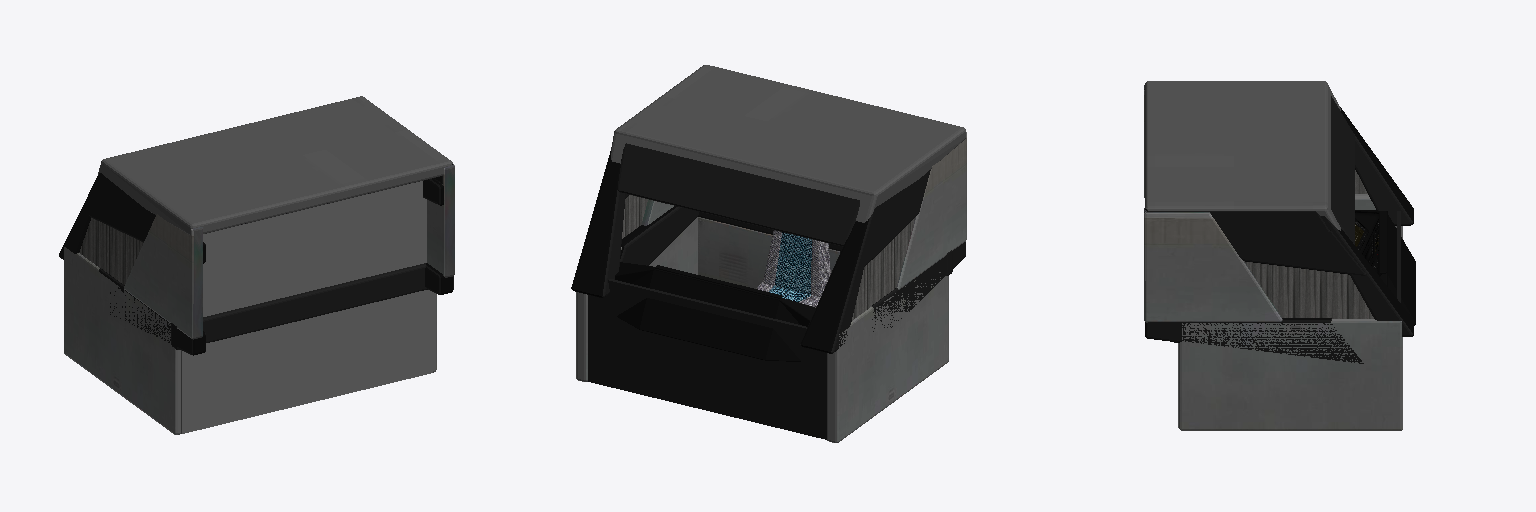
3 renders of one model, left to right at view 1: azimuth 30°, elevation 25°; view 2: azimuth 150°, elevation 25°; view 3: azimuth 270°, elevation 25°, orthographic.
Visible parts, largest first — view 1: Box003, ChamferBox008, ChamferBox003, ChamferBox006, ChamferBox014, Box005, ChamferBox016, ChamferBox013, ChamferBox005, ChamferBox009; view 2: ChamferBox008, Box001, ChamferBox003, ChamferBox007, ChamferBox002, ChamferBox005, ChamferBox006, Box003, ChamferBox013, ChamferBox012, Box005, ChamferBox016 (+2 smaller); view 3: ChamferBox008, ChamferBox003, ChamferBox006, ChamferBox005, Box006, ChamferBox016, ChamferBox013, ChamferBox002, ChamferBox009, ChamferBox007.
Boxes of the visible parts, x1=… form: Box003: x1=181, y1=181, x2=432, y2=433; ChamferBox008: x1=98, y1=96, x2=452, y2=234; ChamferBox003: x1=64, y1=247, x2=436, y2=434; ChamferBox006: x1=124, y1=164, x2=454, y2=339; ChamferBox014: x1=171, y1=263, x2=427, y2=349; Box005: x1=79, y1=218, x2=142, y2=284; ChamferBox016: x1=82, y1=178, x2=443, y2=263; ChamferBox013: x1=99, y1=263, x2=453, y2=355; ChamferBox005: x1=59, y1=173, x2=102, y2=259; ChamferBox009: x1=97, y1=164, x2=452, y2=222; ChamferBox008: x1=611, y1=65, x2=965, y2=222; Box001: x1=588, y1=279, x2=826, y2=439; ChamferBox003: x1=576, y1=217, x2=948, y2=442; ChamferBox007: x1=618, y1=143, x2=859, y2=246; ChamferBox002: x1=615, y1=262, x2=815, y2=361; ChamferBox005: x1=571, y1=151, x2=877, y2=353; ChamferBox006: x1=642, y1=132, x2=966, y2=289; Box003: x1=698, y1=217, x2=839, y2=288; ChamferBox013: x1=620, y1=206, x2=965, y2=331; ChamferBox012: x1=756, y1=230, x2=830, y2=307; Box005: x1=852, y1=217, x2=915, y2=320; ChamferBox016: x1=625, y1=180, x2=927, y2=266; ChamferBox008: x1=1145, y1=81, x2=1340, y2=230; ChamferBox003: x1=1179, y1=194, x2=1402, y2=430; ChamferBox006: x1=1144, y1=85, x2=1282, y2=322; ChamferBox005: x1=1321, y1=107, x2=1413, y2=336; Box006: x1=1244, y1=261, x2=1373, y2=318; ChamferBox016: x1=1223, y1=230, x2=1365, y2=275; ChamferBox013: x1=1145, y1=318, x2=1363, y2=363; ChamferBox002: x1=1355, y1=210, x2=1415, y2=325; ChamferBox009: x1=1145, y1=209, x2=1335, y2=244; ChamferBox007: x1=1331, y1=96, x2=1354, y2=244.
Size of the model in its own units: 11.72 by 9.48 by 10.46.
Materials: 6 (6 with a texture image).